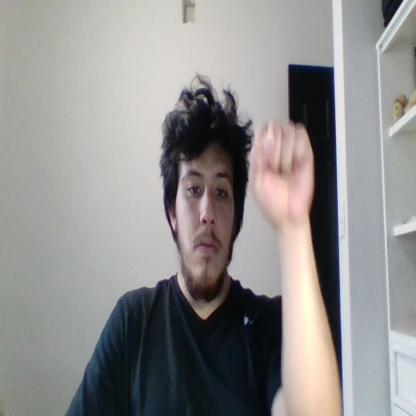S: (250, 120, 314, 226)
